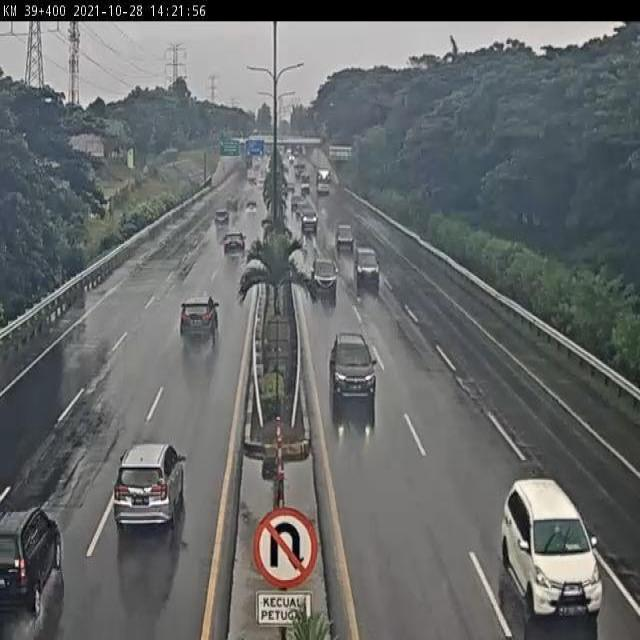ARABA: (500, 481, 605, 619), (0, 507, 62, 622), (112, 442, 187, 534), (329, 332, 378, 404), (176, 293, 222, 344), (311, 257, 341, 292), (354, 247, 382, 281), (223, 231, 247, 260), (335, 224, 355, 251)
